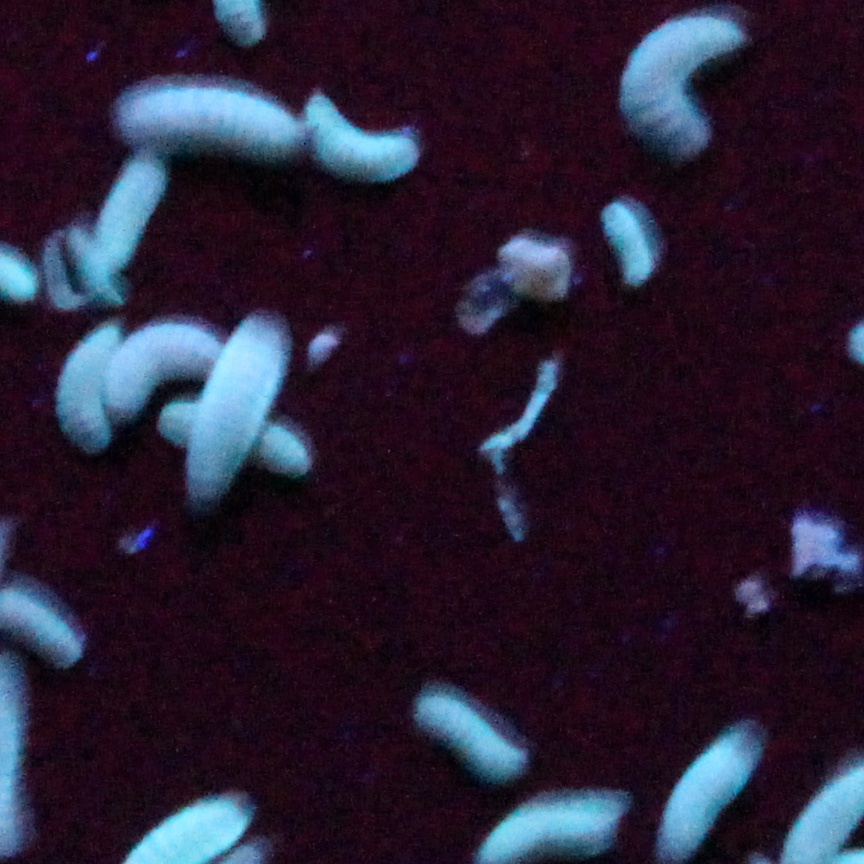larve: (620, 17, 742, 157), (192, 314, 284, 494), (663, 732, 758, 864), (118, 89, 303, 150), (157, 403, 308, 477), (106, 322, 223, 409), (307, 95, 417, 180), (95, 157, 166, 273), (419, 696, 520, 777), (57, 326, 123, 445), (603, 203, 655, 284)
